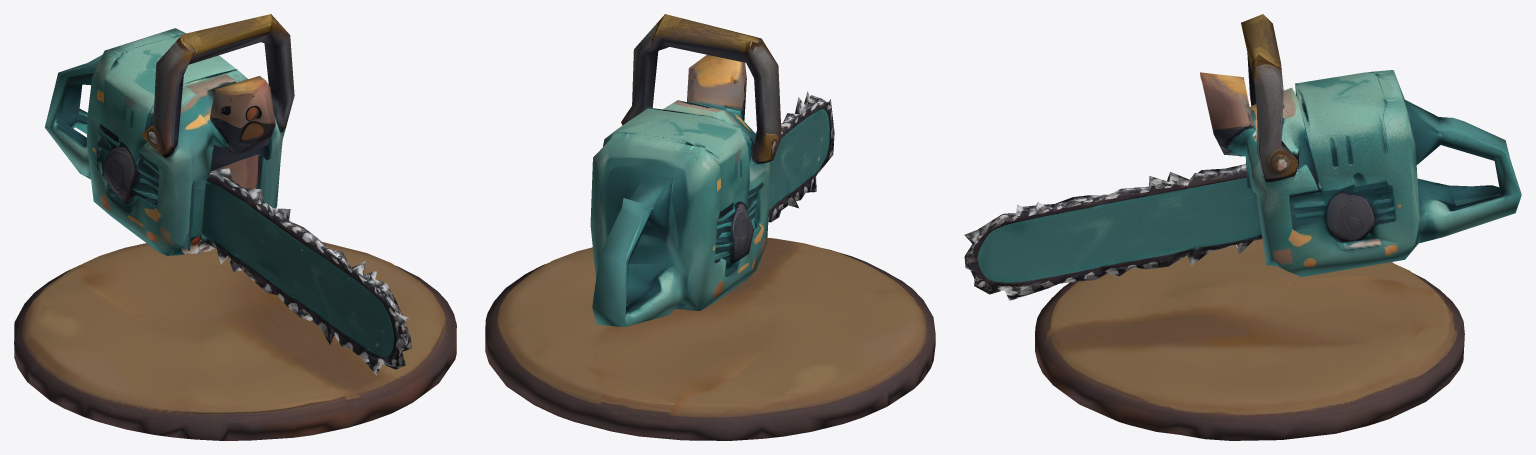
Rendered from weapon_chainsaw_tertiary_1500_raw.glb.
The picture shows the model from 3 angles, left to right: view 1: azimuth 30°, elevation 25°; view 2: azimuth 150°, elevation 25°; view 3: azimuth 270°, elevation 25°; orthographic projection. The views are drawn at different scales.
Parts seen in each view (by area): view 1: tripo_node_6cbefd9c-2362-4c03-80f9-d7e57ac801cd; view 2: tripo_node_6cbefd9c-2362-4c03-80f9-d7e57ac801cd; view 3: tripo_node_6cbefd9c-2362-4c03-80f9-d7e57ac801cd.
Part boxes in pixels (<box>): tripo_node_6cbefd9c-2362-4c03-80f9-d7e57ac801cd: <box>14,14,456,440</box>; tripo_node_6cbefd9c-2362-4c03-80f9-d7e57ac801cd: <box>485,14,935,440</box>; tripo_node_6cbefd9c-2362-4c03-80f9-d7e57ac801cd: <box>964,14,1521,440</box>.
Size of the model in its own units: 0.7599 by 0.6042 by 0.9727.
1 material, 1 textured.
